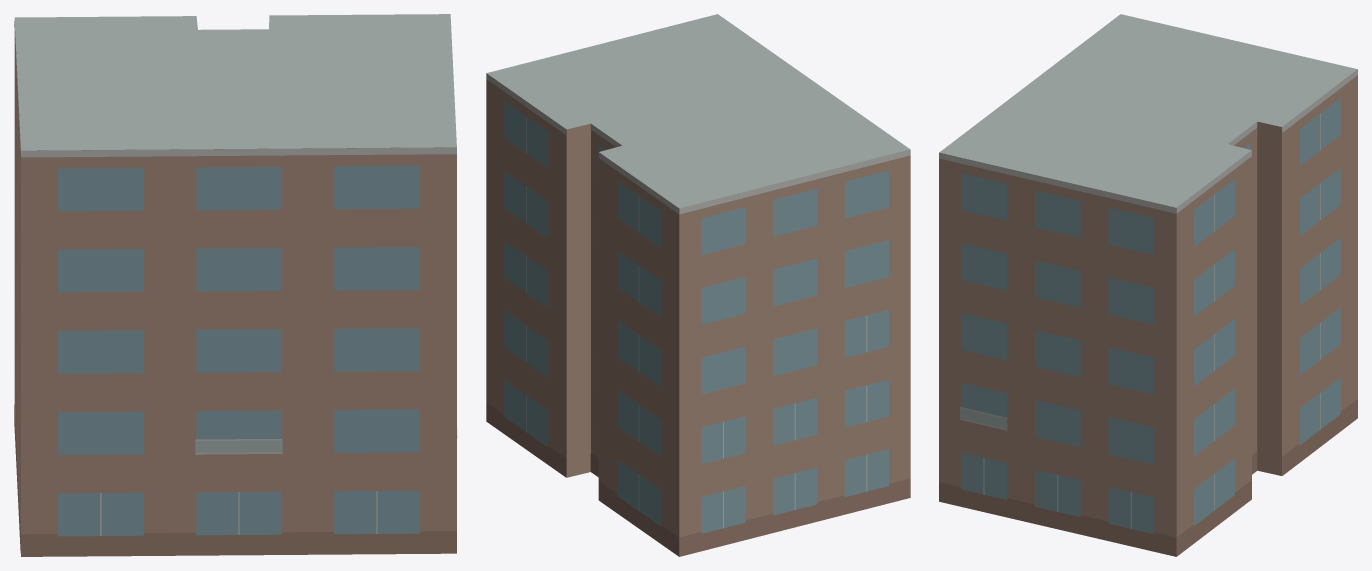
File: survey-upis-32870635.glb
3 views of the same model, side by side, from view 1: azimuth 30°, elevation 25°; view 2: azimuth 150°, elevation 25°; view 3: azimuth 270°, elevation 25° (orthographic). The views are drawn at different scales.
Visible parts, largest first — view 1: survey-upis-32870635.tmp; view 2: survey-upis-32870635.tmp; view 3: survey-upis-32870635.tmp.
Part boxes in pixels (box(x1,y1,x2,y2)): survey-upis-32870635.tmp: box(14, 14, 457, 556); survey-upis-32870635.tmp: box(486, 14, 910, 556); survey-upis-32870635.tmp: box(939, 14, 1357, 556).
Bounding box in the file's own units: 17.09 × 14.35 × 15.61.
